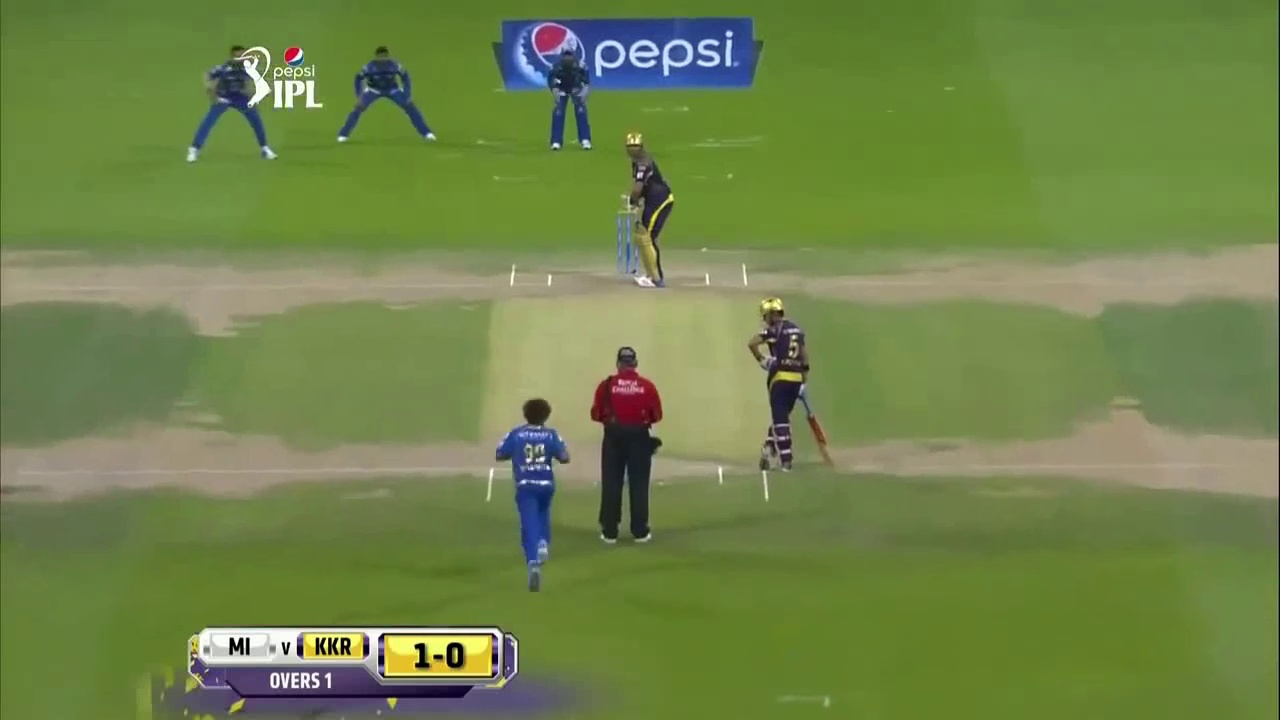bat: (799, 392, 841, 469)
pitch: (466, 247, 809, 525)
stumps: (610, 188, 648, 279)
